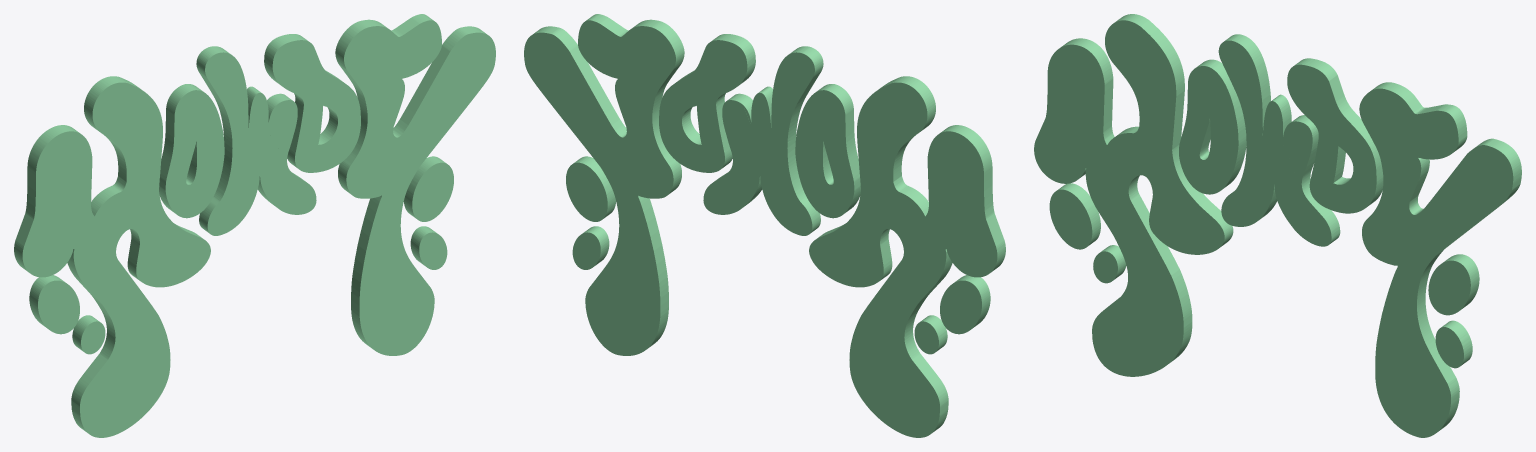
The model's file is 2104_01 - HOWDY.gltf.
The picture shows the model from 3 angles, left to right: view 1: azimuth 30°, elevation 25°; view 2: azimuth 150°, elevation 25°; view 3: azimuth 330°, elevation 25°; orthographic projection.
Size of the model in its own units: 0.3353 by 0.2418 by 0.0105.
